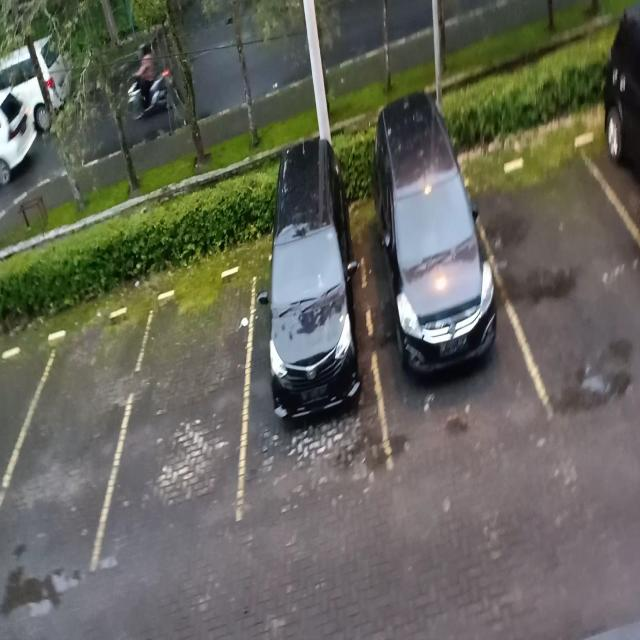empty: (119, 267, 254, 557), (498, 140, 628, 412), (6, 313, 125, 572)
occupied: (367, 156, 502, 459), (242, 208, 367, 519)
